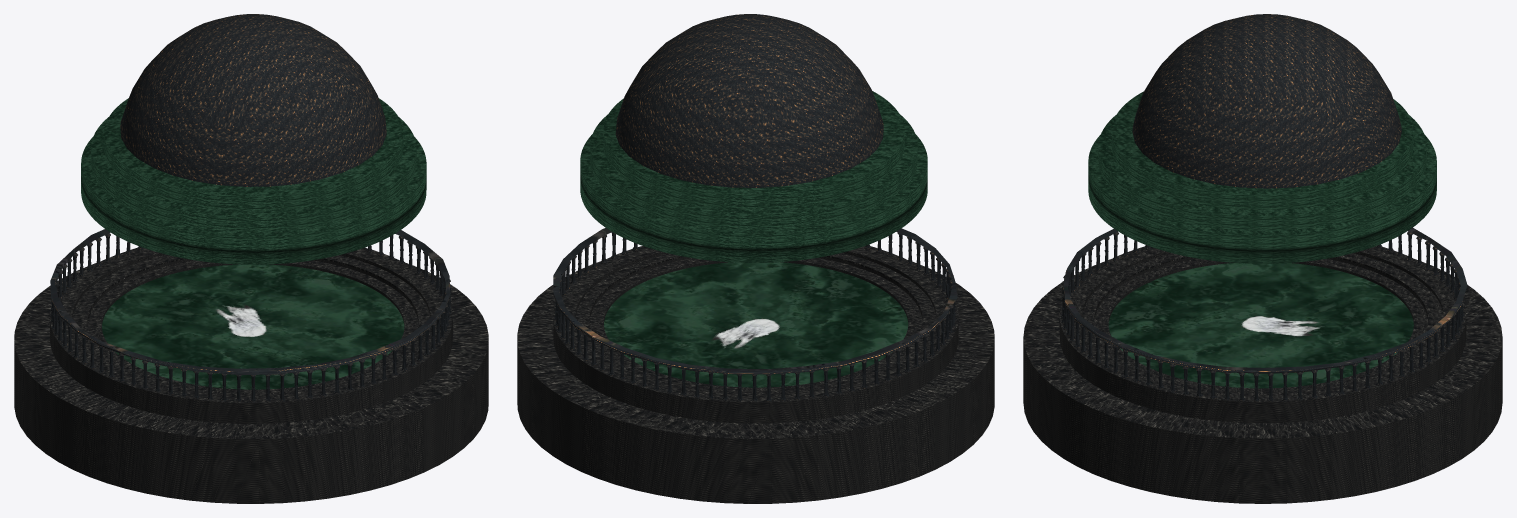
File: dome-draco-transformed.glb
3 views of the same model, side by side, from view 1: azimuth 30°, elevation 25°; view 2: azimuth 150°, elevation 25°; view 3: azimuth 270°, elevation 25° (orthographic).
Parts seen in each view (by area): view 1: Floor, Roof, Cylinder, Cylinder.003; view 2: Floor, Roof, Cylinder, Cylinder.003; view 3: Floor, Roof, Cylinder, Cylinder.003.
Part boxes in pixels (x1=…): Floor: x1=14, y1=247, x2=488, y2=503; Roof: x1=120, y1=14, x2=386, y2=186; Cylinder: x1=81, y1=98, x2=426, y2=264; Cylinder.003: x1=50, y1=229, x2=452, y2=402; Floor: x1=517, y1=246, x2=994, y2=503; Roof: x1=615, y1=14, x2=883, y2=187; Cylinder: x1=580, y1=91, x2=927, y2=262; Cylinder.003: x1=553, y1=228, x2=957, y2=401; Floor: x1=1023, y1=246, x2=1502, y2=503; Roof: x1=1132, y1=14, x2=1401, y2=188; Cylinder: x1=1088, y1=91, x2=1436, y2=263; Cylinder.003: x1=1060, y1=227, x2=1467, y2=401.
Size of the model in its own units: 17.51 by 15.24 by 17.51.
Materials: 5 (5 with a texture image).
